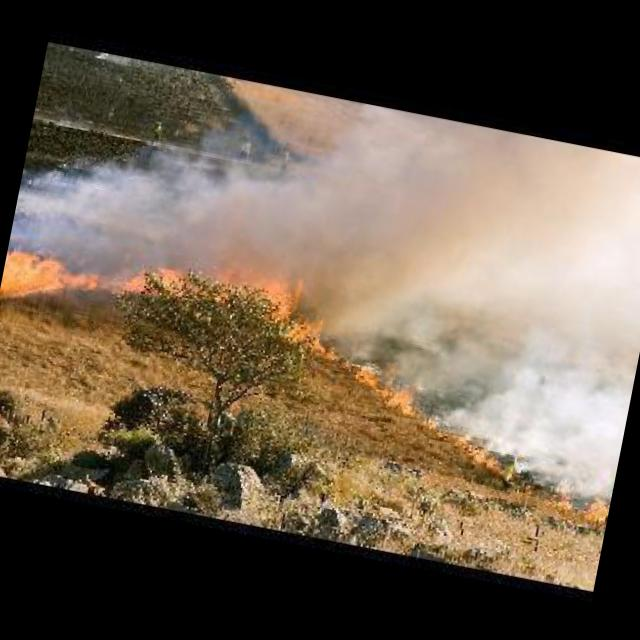fire: (0, 207, 302, 349), (278, 313, 426, 415), (424, 414, 502, 466), (549, 484, 604, 518)
